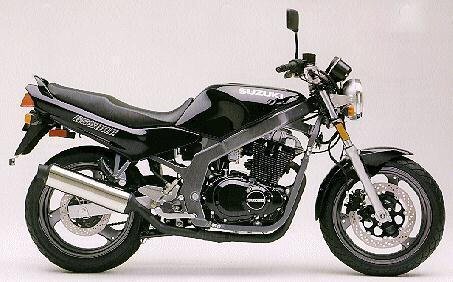motorcycle: (5, 2, 453, 282)
